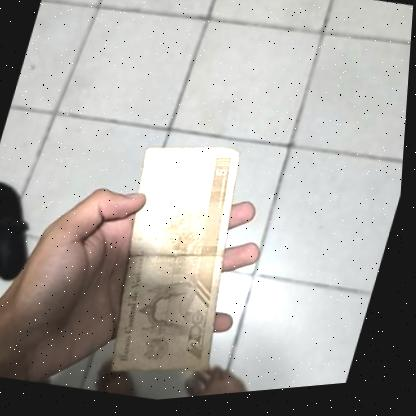five-back-vef: (85, 128, 274, 398)
